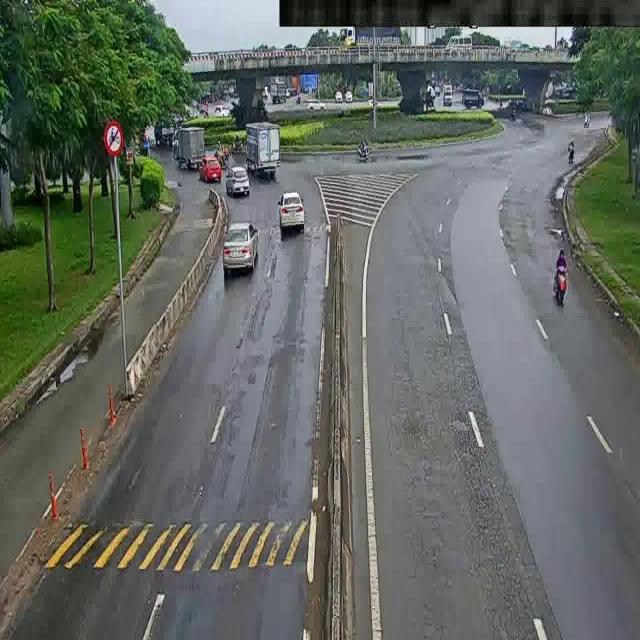car: (212, 208, 278, 284), (269, 197, 313, 238), (222, 167, 268, 204), (192, 157, 220, 181)
motorbike: (547, 243, 578, 301), (564, 147, 580, 164)
truck: (236, 122, 292, 177), (170, 123, 211, 174)
